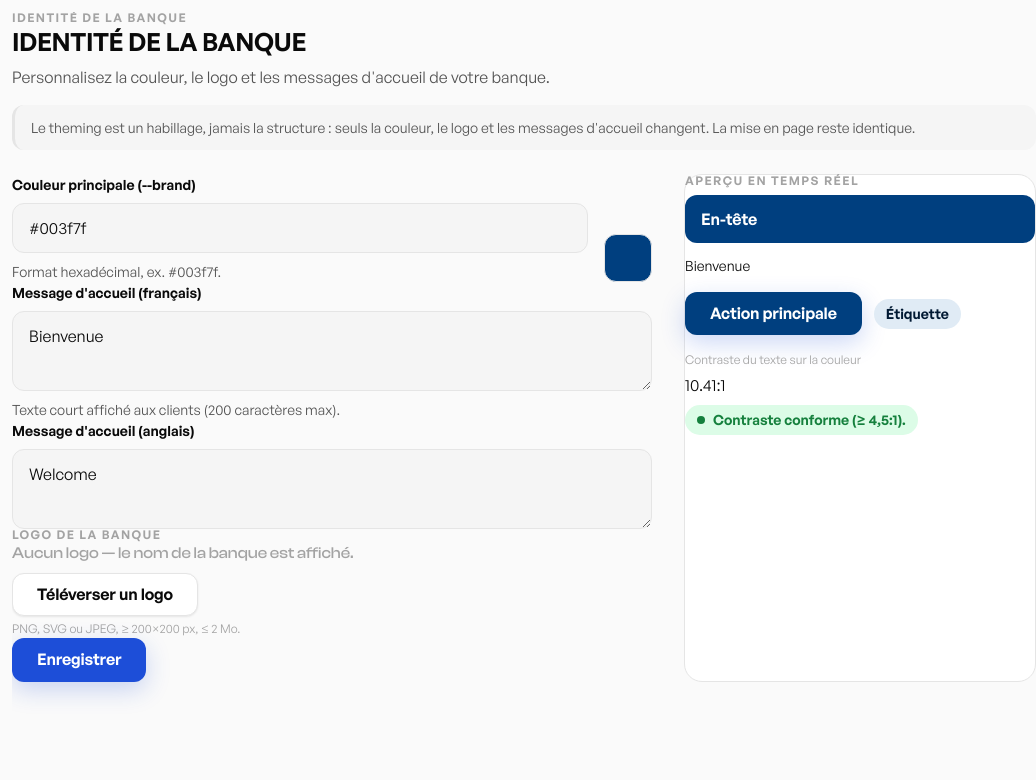
ThemingConsole — save (PATCH) sans rechargement › ADM-001b: erreur serveur au save → message humain inline, jamais de modale
Click the button with test id "adm-theme-save" at (79, 660), box x1=12 y1=638 x2=146 y2=682
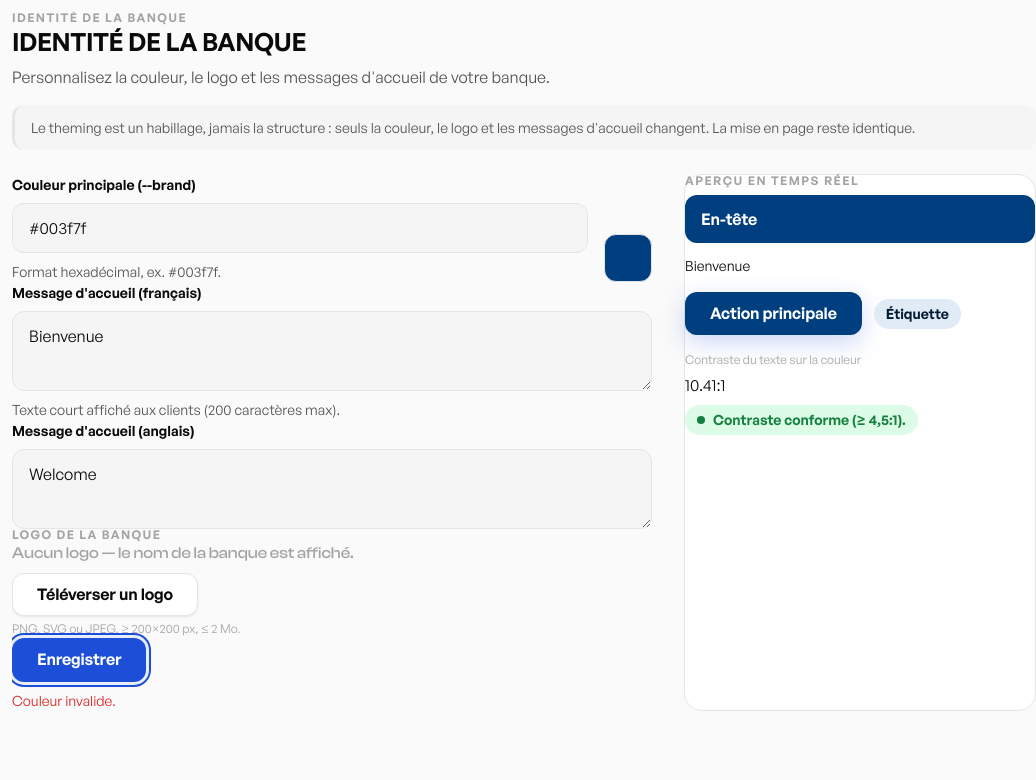
Now the message with test id "adm-theme-server-error" reads "Couleur invalide.", box x1=12 y1=692 x2=116 y2=709
